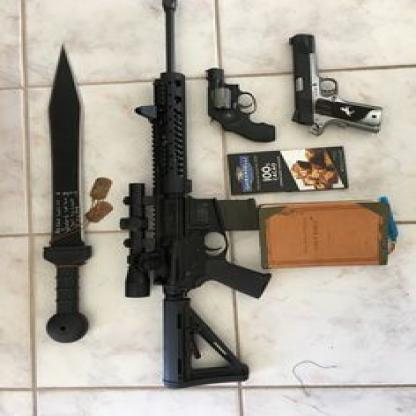Gun: (116, 0, 272, 391)
Knife: (41, 43, 97, 344)
Pistol: (287, 31, 383, 137), (204, 65, 279, 144)
